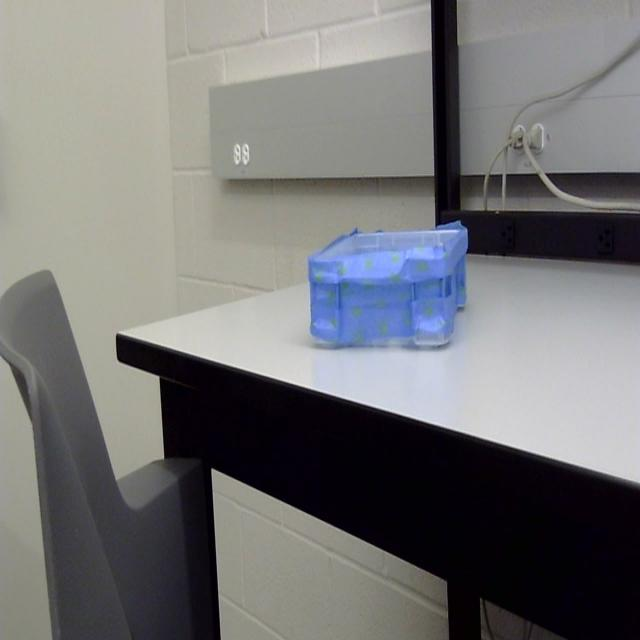bucket: (306, 217, 470, 355)
